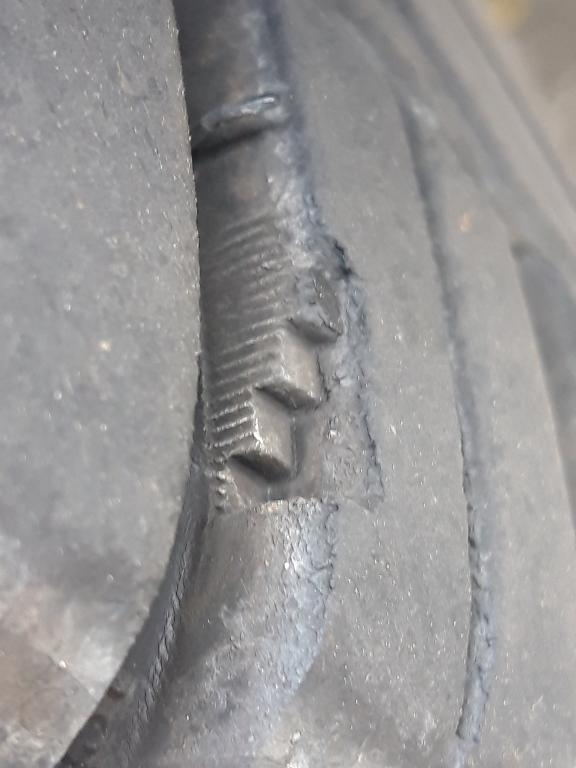temoin:80: (182, 191, 408, 543)
